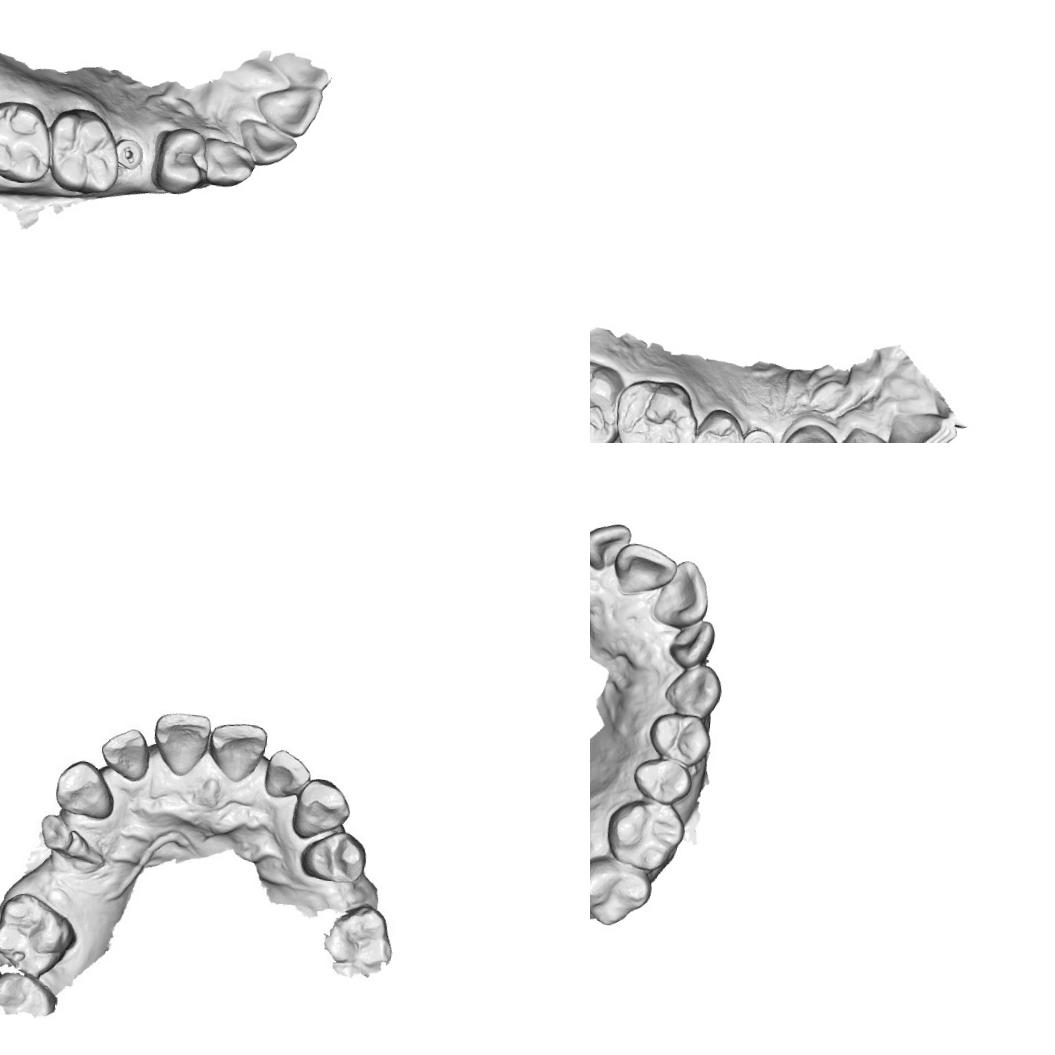canine: (50, 757, 118, 820), (660, 660, 726, 720), (292, 778, 353, 839), (198, 133, 258, 193), (776, 417, 843, 443)
implant: (741, 424, 776, 443)
implant_minus: (114, 134, 148, 174)
incisor: (649, 556, 713, 632), (252, 80, 324, 140), (611, 540, 680, 601), (150, 712, 209, 780), (233, 115, 301, 171), (210, 722, 272, 782), (666, 616, 718, 672), (884, 405, 960, 443), (100, 726, 150, 776), (590, 519, 633, 575), (263, 750, 303, 797), (836, 422, 902, 443)
molar: (44, 102, 125, 198), (0, 885, 78, 982), (603, 794, 688, 875), (610, 374, 703, 443), (0, 96, 61, 189), (590, 852, 655, 930), (590, 357, 625, 443)
premolar: (150, 122, 214, 198), (645, 710, 714, 769), (295, 832, 365, 890), (629, 754, 695, 807), (688, 406, 746, 443)
